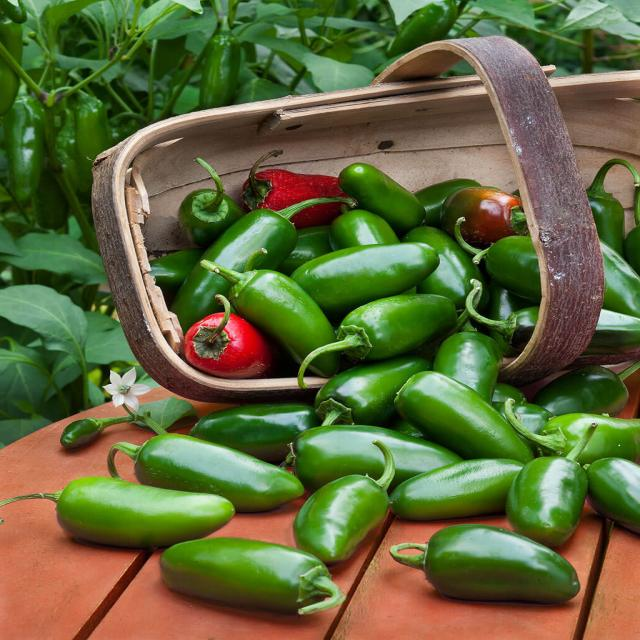Jalepeno: (69, 415, 309, 528), (188, 182, 359, 320), (290, 279, 475, 397), (19, 473, 246, 564), (361, 518, 596, 605), (188, 242, 340, 374), (154, 530, 354, 624), (386, 375, 542, 487), (482, 397, 602, 530), (282, 433, 402, 562), (288, 224, 438, 320)
